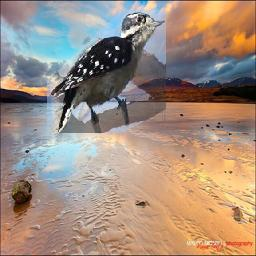Woodpecker: (48, 11, 167, 134)
